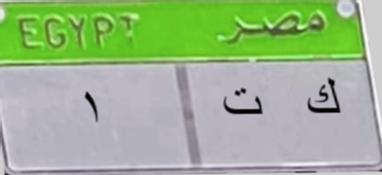1: (76, 86, 104, 133)
kaaf: (300, 74, 342, 124)
taa: (220, 85, 267, 125)
